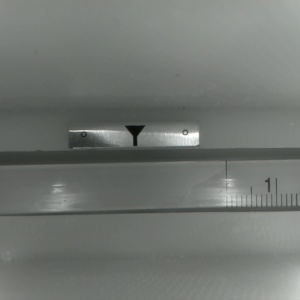1: (264, 178, 270, 192)
finger: (124, 126, 145, 145)
